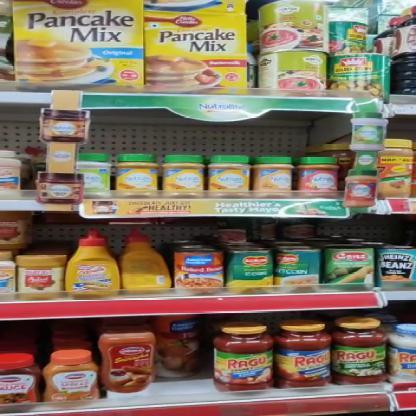Nutralite ACHARI MAYO 300g-275g-25g-: (114, 154, 158, 200), (158, 152, 203, 196), (206, 154, 249, 196)
Nutralite CHEESY GARLIC MAYO 300g-275g-25g-: (257, 155, 294, 196)
Nutralite TANDOORI MAYO 300g-275g-25g-: (297, 156, 342, 199)
Nutralite VEG MAYO 300g-275g-25g-: (74, 152, 112, 194)
